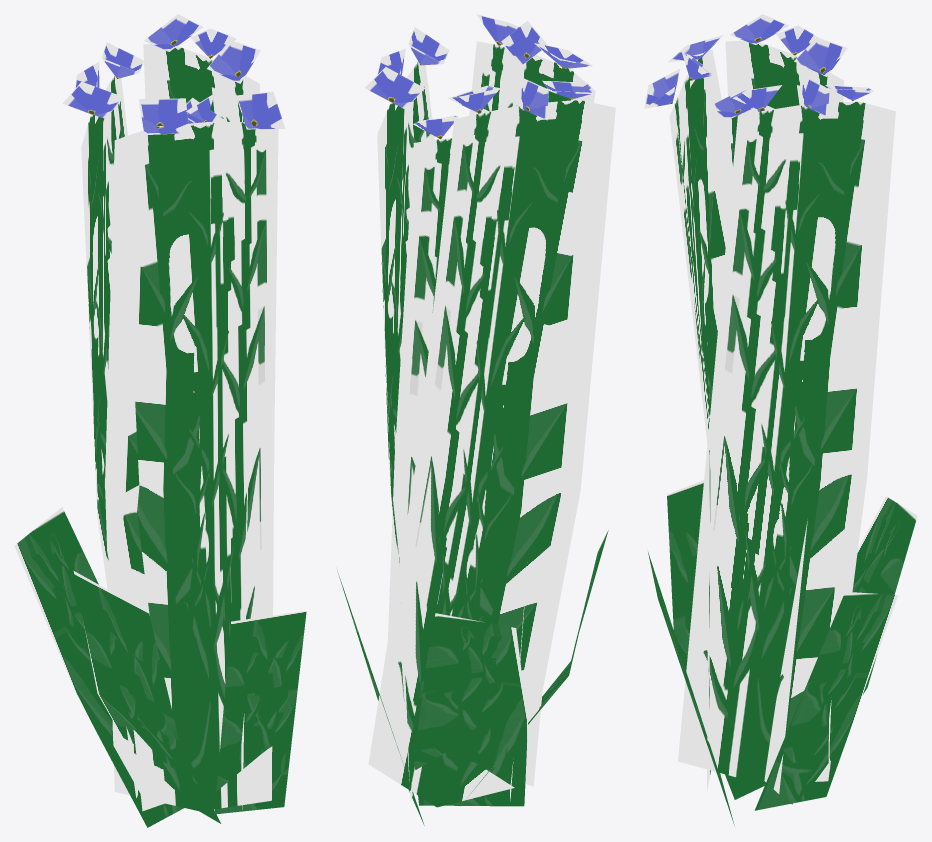
File: PT_Flax_01.fbx
3 renders of one model, left to right at view 1: azimuth 30°, elevation 25°; view 2: azimuth 150°, elevation 25°; view 3: azimuth 270°, elevation 25°, orthographic. The views are drawn at different scales.
Visible parts, largest first — view 1: PT_Flax_01_LOD0; view 2: PT_Flax_01_LOD0; view 3: PT_Flax_01_LOD0.
Part boxes in pixels (x1,y1,x2,y2): PT_Flax_01_LOD0: [14, 14, 306, 827]; PT_Flax_01_LOD0: [337, 14, 615, 825]; PT_Flax_01_LOD0: [644, 14, 917, 825].
Size of what is drawn, in the model's own units: 36.63 by 122 by 41.13.
